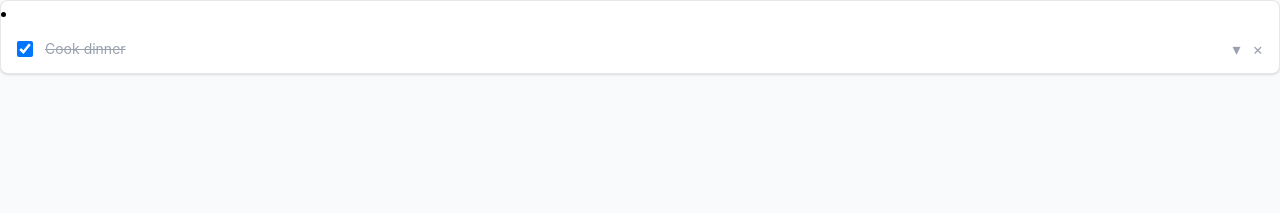
Scenario: TodoItem › shows completedAt in the detail panel for completed todos
The width and height of the screenshot is (1280, 213).
Click the button "Cook dinner": (85, 48) left=45, top=39, right=1220, bottom=59
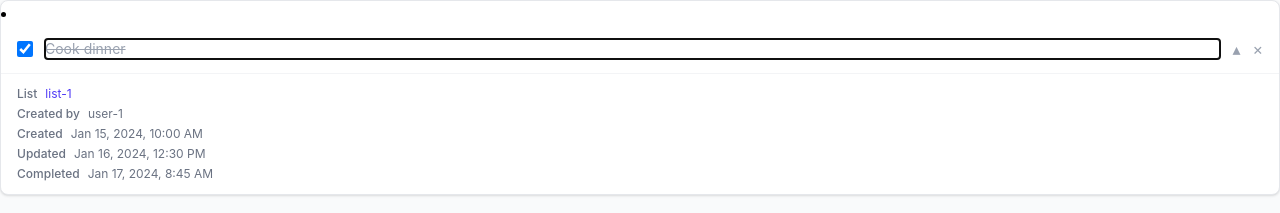
expect the text "Completed" is shown: met, box left=17, top=166, right=80, bottom=182
